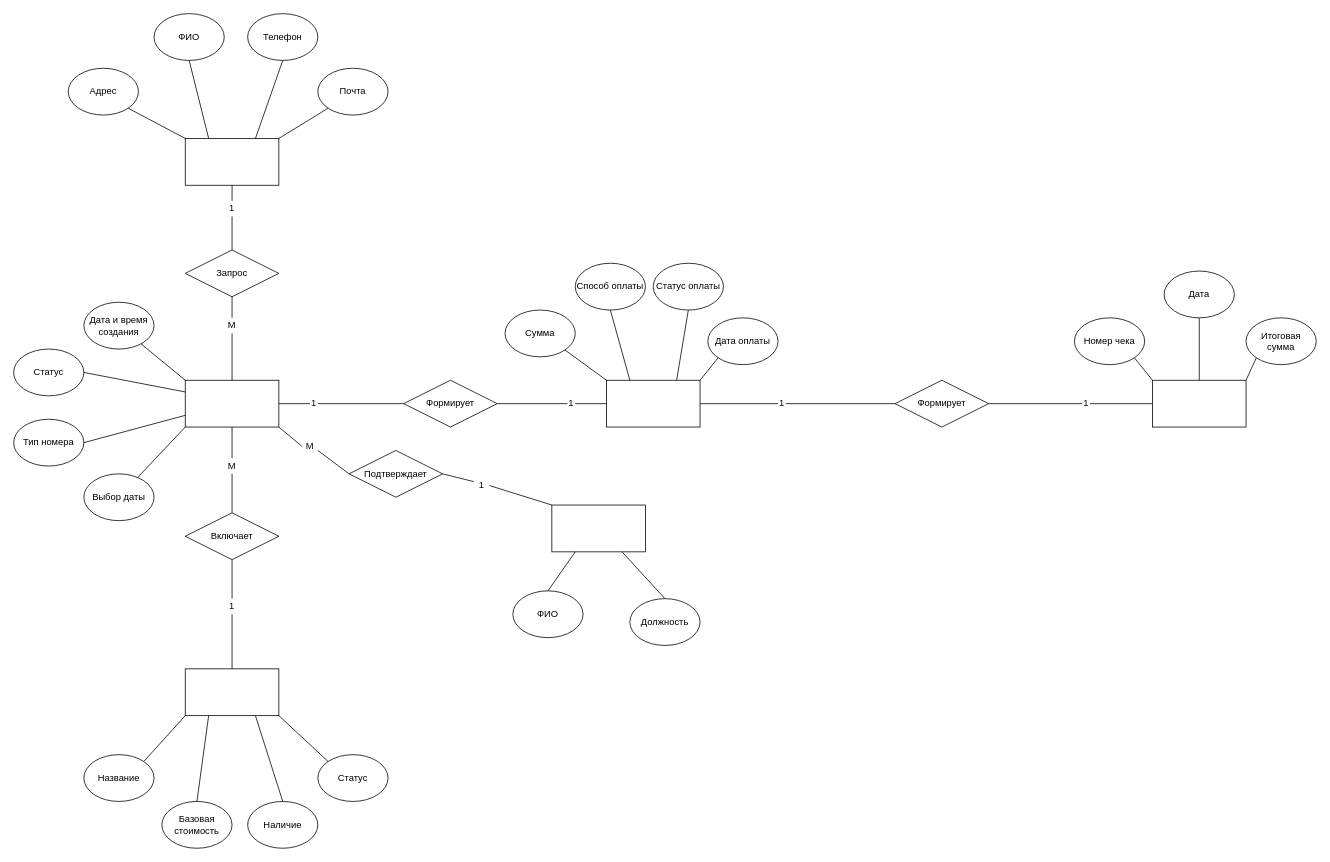
Image size: 1330x862. Some labels were removed from this diagram. The shapes that lost their labels are listed below. From the top down, each one's centre as x and y in pixels, then its label:
the point at 231,161: Клиент
the point at 231,403: Бронирование
the point at 653,403: Платеж
the point at 1199,403: Чек
the point at 598,528: Сотрудник
the point at 231,692: Номер
